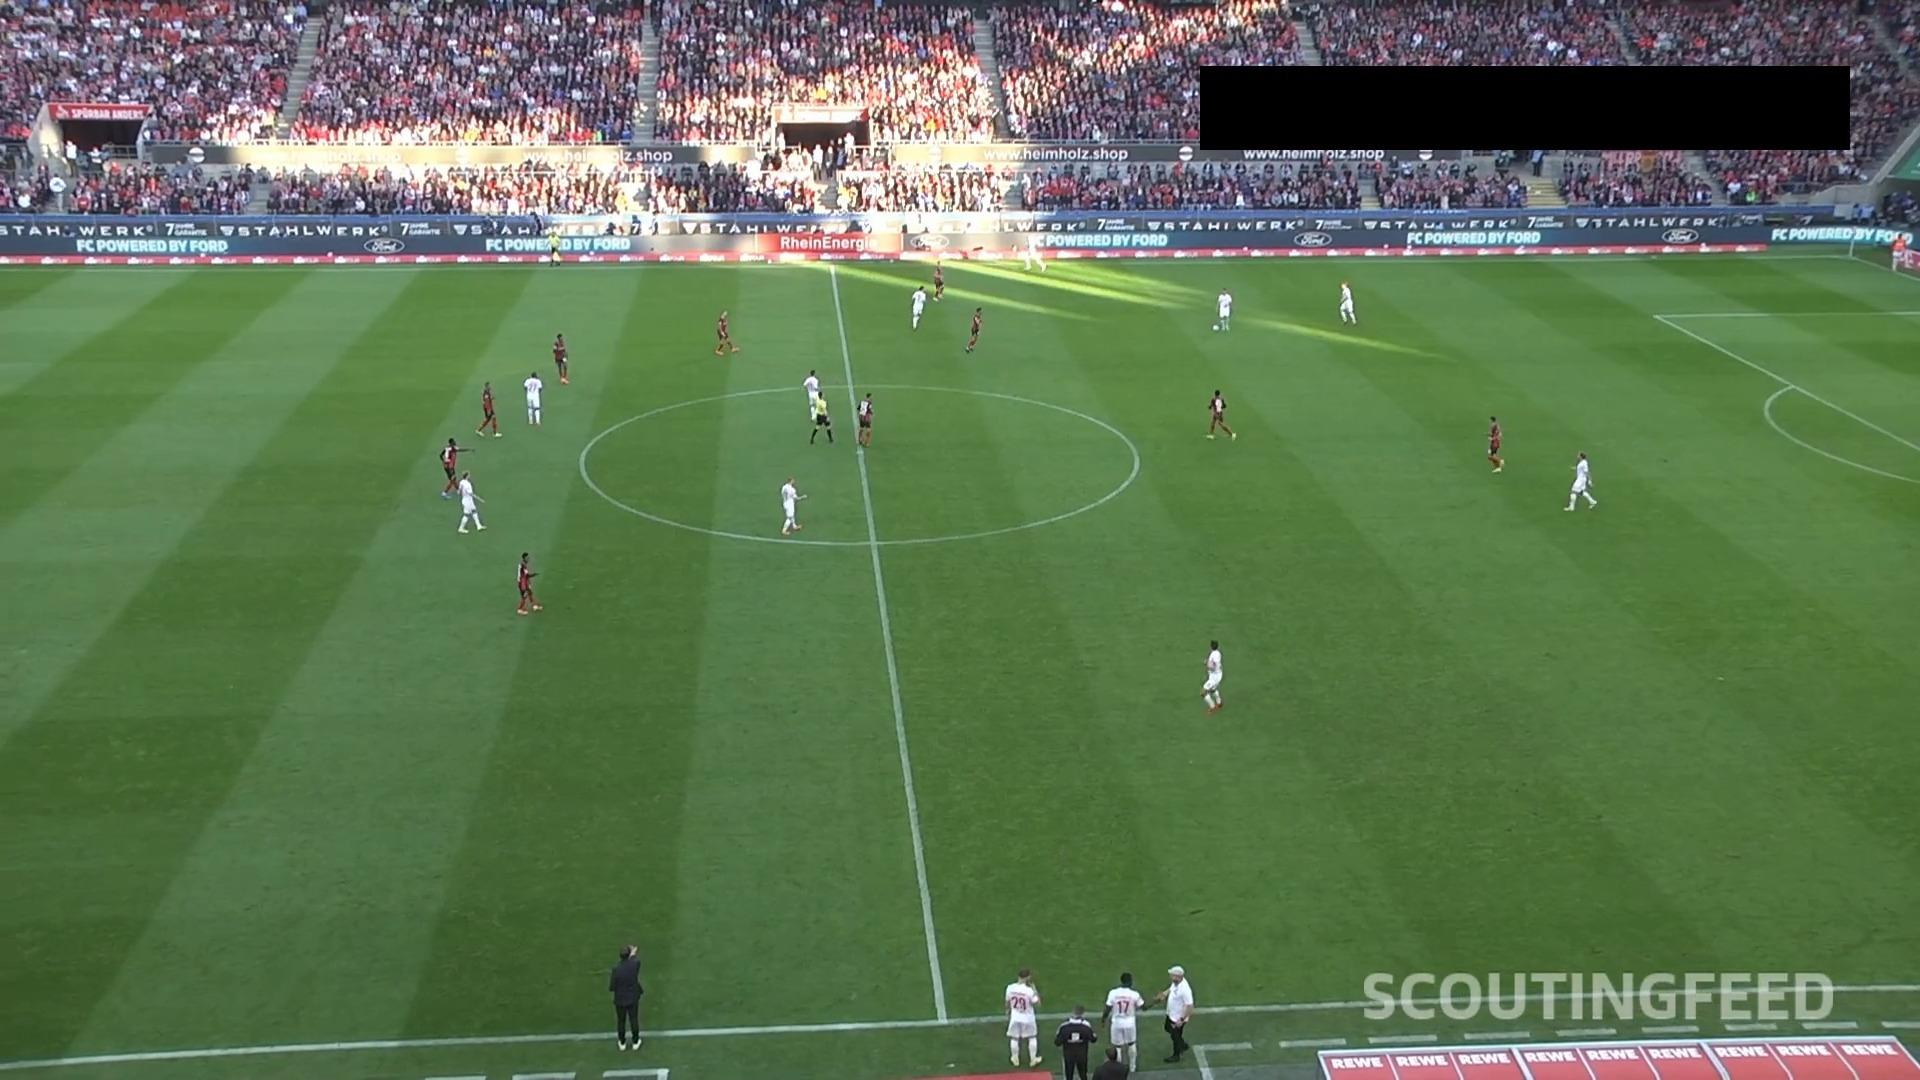ball: (1212, 323, 1220, 332)
